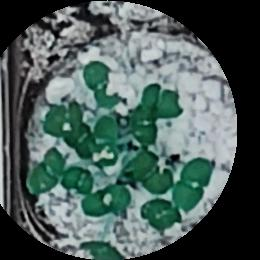Basil: (174, 156, 217, 216), (25, 148, 66, 191), (132, 155, 176, 194), (90, 63, 123, 109), (44, 107, 84, 140), (83, 189, 128, 218), (141, 82, 181, 112), (139, 202, 181, 230), (96, 117, 117, 164), (64, 164, 93, 196), (71, 127, 96, 155)
